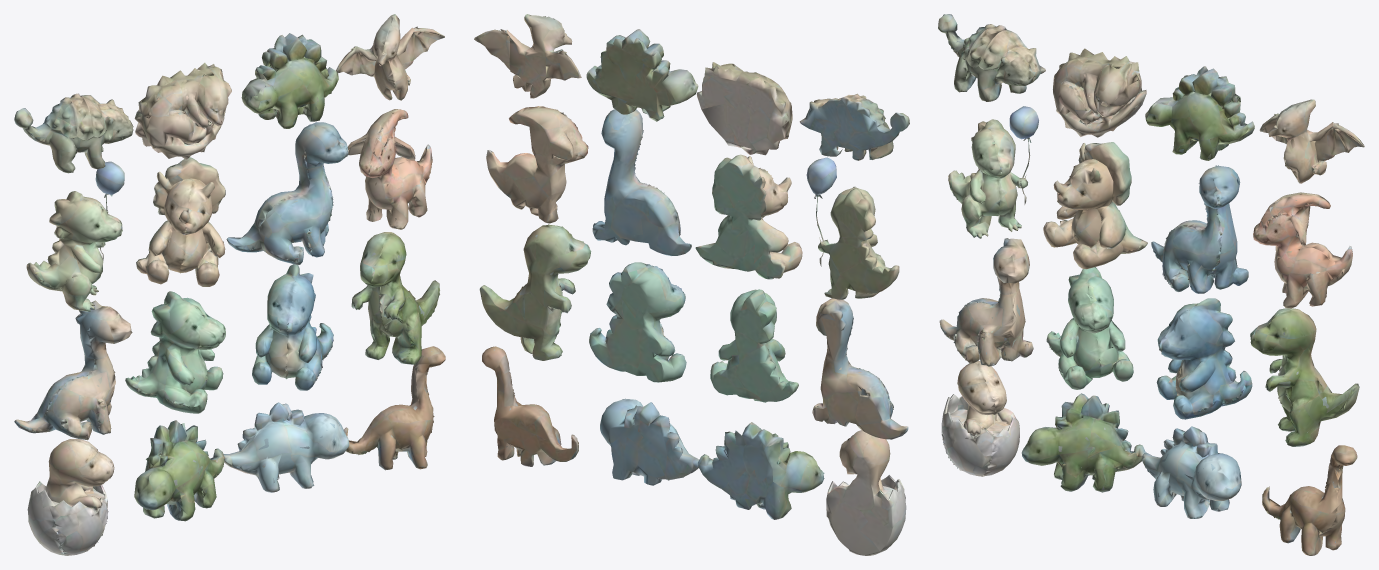
3 views of the same model, side by side, from view 1: azimuth 30°, elevation 25°; view 2: azimuth 150°, elevation 25°; view 3: azimuth 330°, elevation 25° (orthographic). The views are drawn at different scales.
Parts seen in each view (by area): view 1: Mesh 10, Mesh 8, Mesh 9, Mesh 3, Mesh 4, Mesh 1, Mesh 13, Mesh 18, Mesh 7, Mesh 12, Mesh 21, Mesh 17 (+4 smaller); view 2: Mesh 8, Mesh 12, Mesh 18, Mesh 10, Mesh 3, Mesh 21, Mesh 17, Mesh 1, Mesh 4, Mesh 7, Mesh 9, Mesh 11 (+4 smaller); view 3: Mesh 8, Mesh 12, Mesh 18, Mesh 21, Mesh 10, Mesh 3, Mesh 4, Mesh 9, Mesh 1, Mesh 17, Mesh 7, Mesh 11 (+4 smaller).
Boxes of the visible parts, <box> form: Mesh 10: <box>226,122,348,264</box>; Mesh 8: <box>136,157,225,286</box>; Mesh 9: <box>125,291,225,413</box>; Mesh 3: <box>27,439,114,555</box>; Mesh 4: <box>26,161,124,311</box>; Mesh 1: <box>14,300,132,440</box>; Mesh 13: <box>223,402,349,492</box>; Mesh 18: <box>351,232,439,364</box>; Mesh 7: <box>134,62,231,159</box>; Mesh 12: <box>252,264,333,390</box>; Mesh 21: <box>134,420,224,521</box>; Mesh 17: <box>347,109,432,229</box>; Mesh 8: <box>695,154,802,279</box>; Mesh 12: <box>589,262,686,382</box>; Mesh 18: <box>479,224,591,360</box>; Mesh 10: <box>592,109,691,255</box>; Mesh 3: <box>826,430,906,555</box>; Mesh 21: <box>698,422,824,519</box>; Mesh 17: <box>486,106,588,223</box>; Mesh 1: <box>812,298,908,439</box>; Mesh 4: <box>806,157,899,299</box>; Mesh 7: <box>696,62,792,155</box>; Mesh 9: <box>710,289,798,402</box>; Mesh 11: <box>586,29,698,121</box>; Mesh 8: <box>1043,142,1147,269</box>; Mesh 12: <box>1156,298,1252,419</box>; Mesh 18: <box>1250,308,1359,446</box>; Mesh 21: <box>1021,393,1145,492</box>; Mesh 10: <box>1151,165,1248,293</box>; Mesh 3: <box>941,361,1019,476</box>; Mesh 4: <box>948,106,1038,238</box>; Mesh 9: <box>1046,267,1133,389</box>; Mesh 1: <box>939,238,1033,366</box>; Mesh 17: <box>1253,192,1352,308</box>; Mesh 7: <box>1053,48,1146,137</box>; Mesh 11: <box>1145,66,1254,160</box>.
Bounding box in the file's own units: 1.86 × 1.9 × 0.2355.
16 materials, 16 textured.
